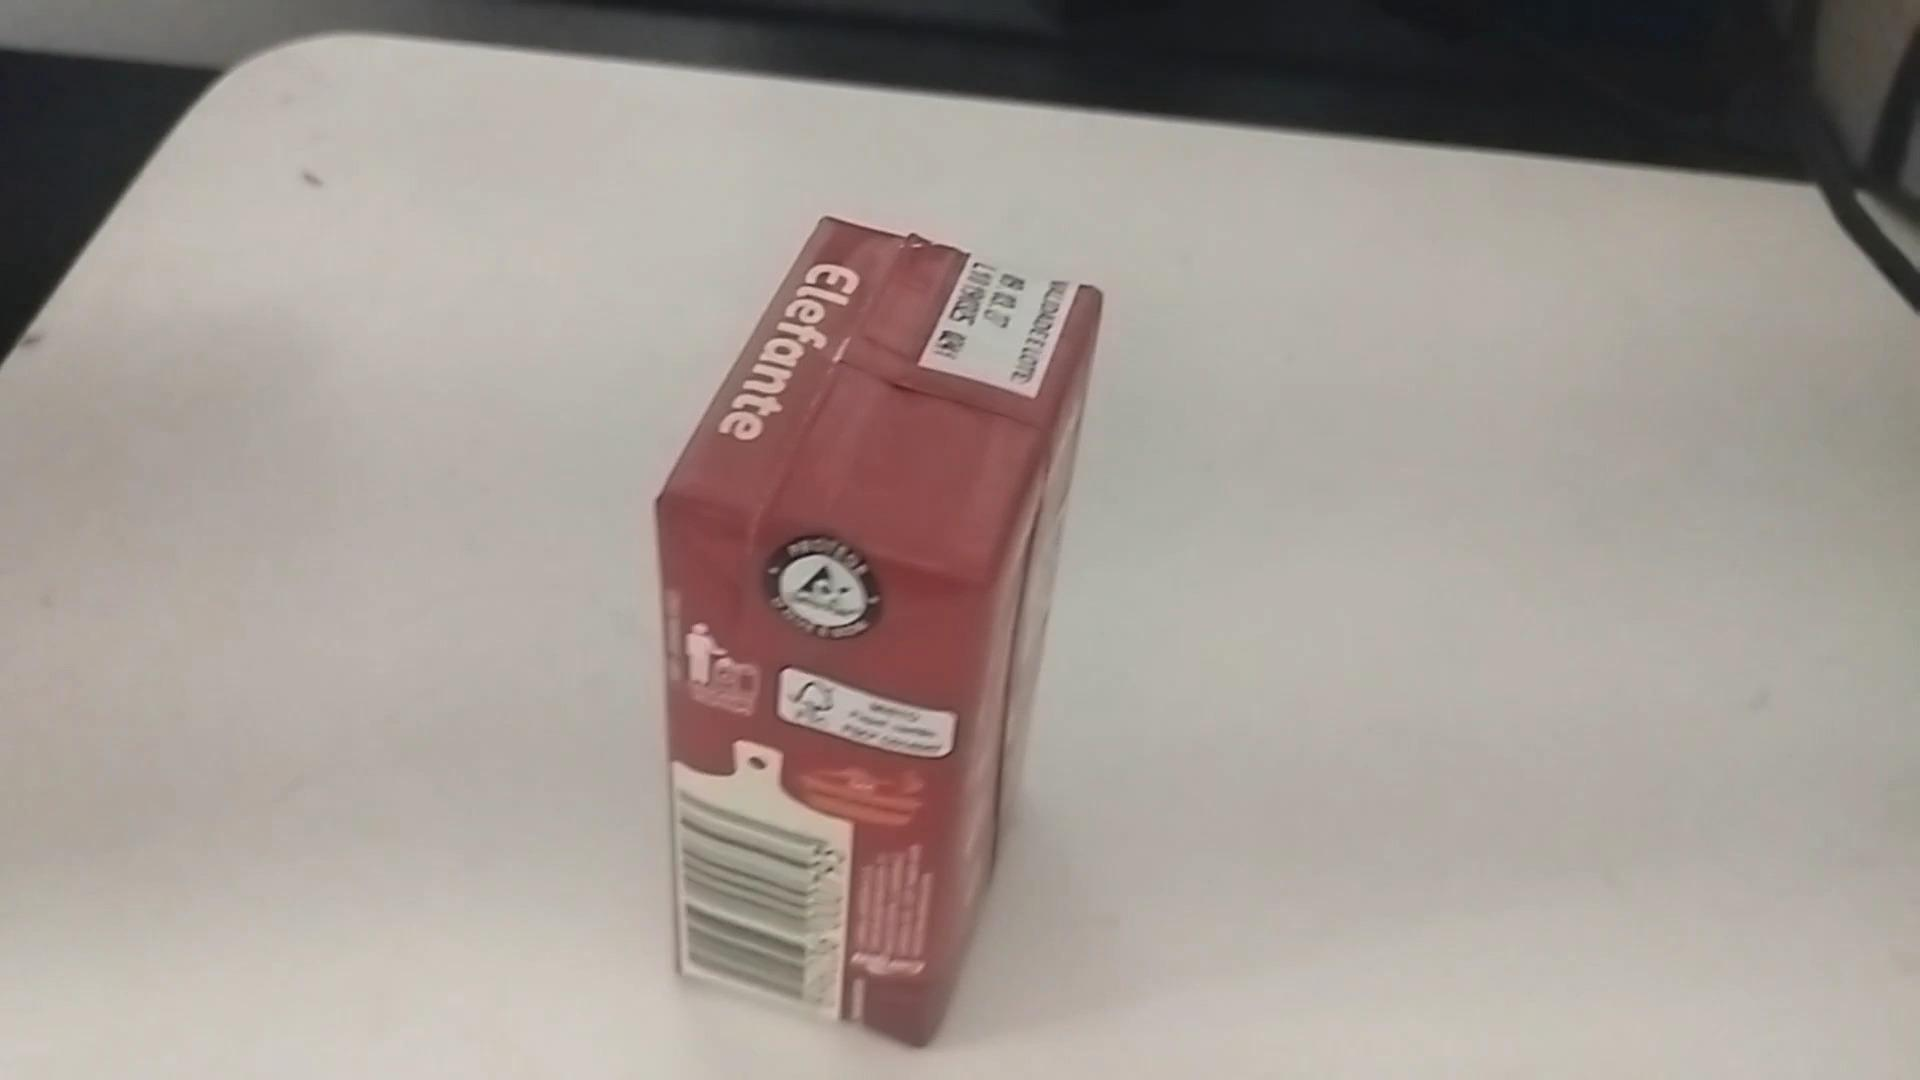tomate: (642, 199, 1138, 1047)
